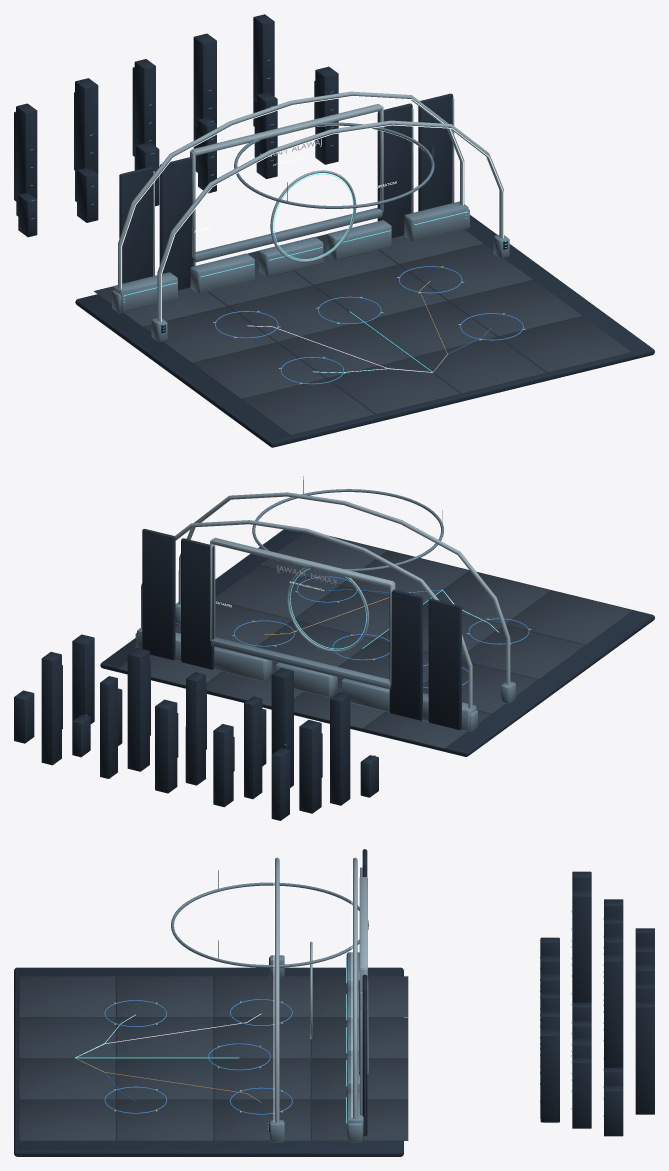
File: world-mobile.glb
3 renders of one model, top to bottom at view 1: azimuth 30°, elevation 25°; view 2: azimuth 150°, elevation 25°; view 3: azimuth 270°, elevation 25°, orthographic. The views are drawn at different scales.
Parts seen in each view (by area): view 1: FutureStudio_Stage graphite, FutureStudio_Basalt composite, FutureStudio_Brushed alloy, FutureStudio_Architectural ceramic, FutureStudio_Pearl light, FutureStudio_Deep blue guide, FutureStudio_Ion cyan; view 2: FutureStudio_Basalt composite, FutureStudio_Stage graphite, FutureStudio_Brushed alloy, FutureStudio_Architectural ceramic, FutureStudio_Deep blue guide; view 3: FutureStudio_Stage graphite, FutureStudio_Basalt composite, FutureStudio_Brushed alloy, FutureStudio_Architectural ceramic, FutureStudio_Pearl light, FutureStudio_Deep blue guide, FutureStudio_Ion cyan.
Boxes of the visible parts, <box> form: FutureStudio_Stage graphite: <box>94,229,631,435</box>; FutureStudio_Basalt composite: <box>14,14,654,447</box>; FutureStudio_Brushed alloy: <box>112,122,509,341</box>; FutureStudio_Architectural ceramic: <box>118,91,503,321</box>; FutureStudio_Pearl light: <box>121,95,503,321</box>; FutureStudio_Deep blue guide: <box>30,60,523,384</box>; FutureStudio_Ion cyan: <box>123,173,506,372</box>; FutureStudio_Basalt composite: <box>14,529,654,820</box>; FutureStudio_Stage graphite: <box>118,532,632,748</box>; FutureStudio_Brushed alloy: <box>135,476,515,731</box>; FutureStudio_Architectural ceramic: <box>141,492,510,708</box>; FutureStudio_Deep blue guide: <box>85,576,529,756</box>; FutureStudio_Stage graphite: <box>19,976,408,1140</box>; FutureStudio_Basalt composite: <box>14,849,654,1156</box>; FutureStudio_Brushed alloy: <box>171,870,368,1142</box>; FutureStudio_Architectural ceramic: <box>275,857,367,1122</box>; FutureStudio_Pearl light: <box>183,861,352,1121</box>; FutureStudio_Deep blue guide: <box>104,911,603,1116</box>; FutureStudio_Ion cyan: <box>75,957,346,1129</box>.
Bounding box in the file's own units: 18 × 7.83 × 26.3.
